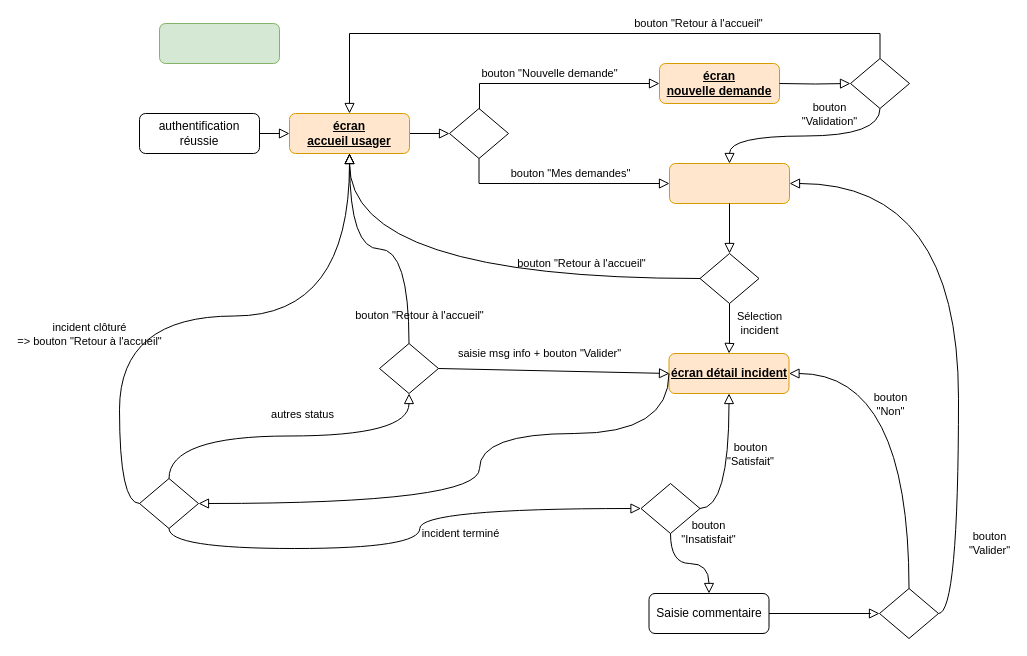
Image size: 1027x656. Some labels were removed from this diagram. The box of each missing label's shape, as (x1, y1, x2, y2) in pixels:
profil Usager: (158, 22, 280, 64)
écran mes demandes: (668, 162, 790, 204)
